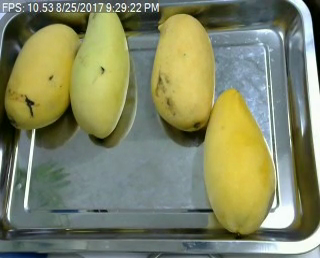Mango: (204, 89, 276, 233), (5, 23, 80, 130), (70, 2, 129, 137), (152, 12, 215, 131)
